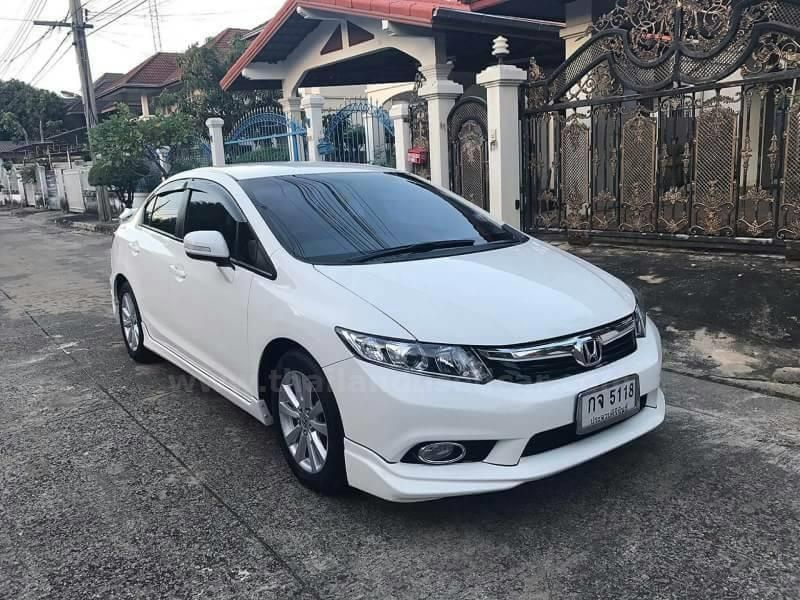sedan: (106, 158, 671, 506)
